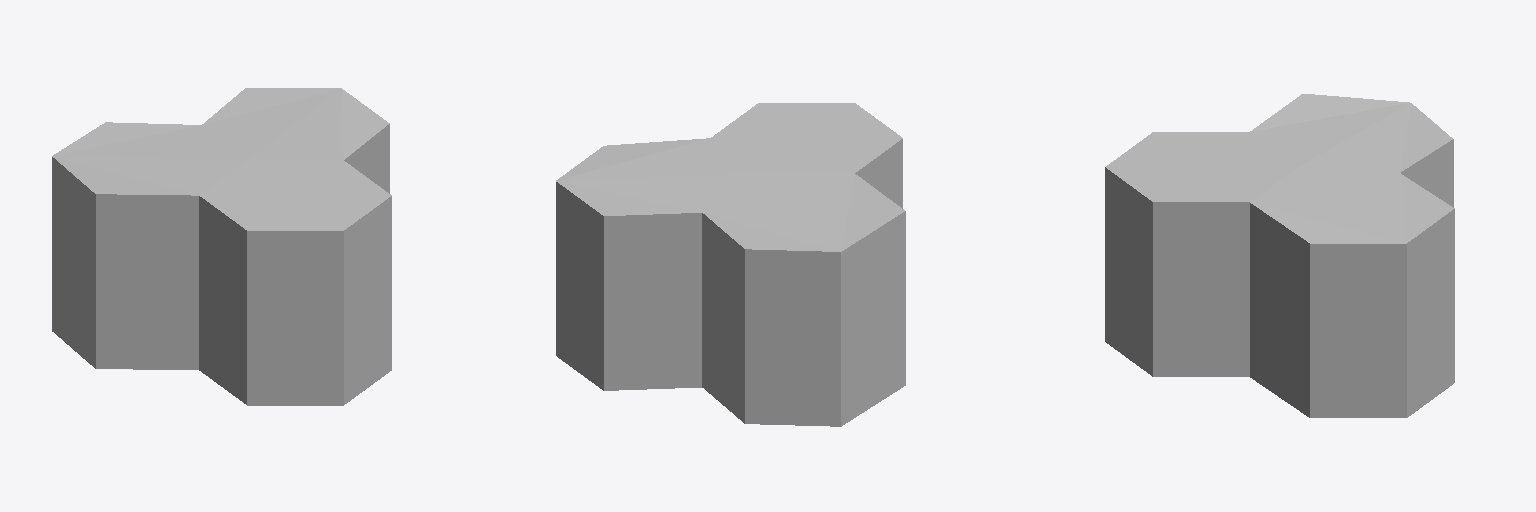
The model's file is hex3.obj.
3 views of the same model, side by side, from view 1: azimuth 30°, elevation 25°; view 2: azimuth 150°, elevation 25°; view 3: azimuth 270°, elevation 25° (orthographic).
Parts seen in each view (by area): view 1: base1, base2, base3; view 2: base2, base3, base1; view 3: base3, base1, base2.
Boxes of the visible parts, x1=… form: base1: x1=199, y1=160, x2=391, y2=405; base2: x1=52, y1=122, x2=246, y2=369; base3: x1=202, y1=88, x2=389, y2=193; base2: x1=702, y1=173, x2=905, y2=426; base3: x1=556, y1=138, x2=758, y2=390; base1: x1=711, y1=103, x2=902, y2=208; base3: x1=1250, y1=167, x2=1454, y2=417; base1: x1=1105, y1=132, x2=1296, y2=376; base2: x1=1250, y1=94, x2=1453, y2=207.
Size of the model in its own units: 3.57 by 2.05 by 3.63.